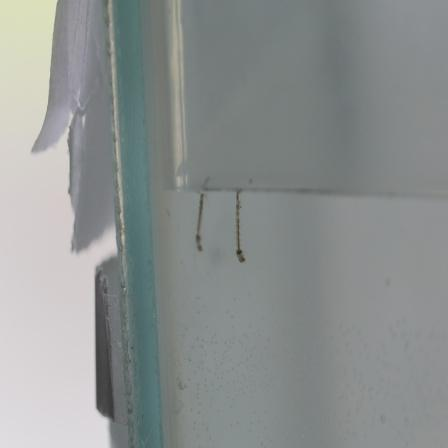Jentik-Nyamuk: (188, 187, 207, 257), (232, 187, 248, 268)
